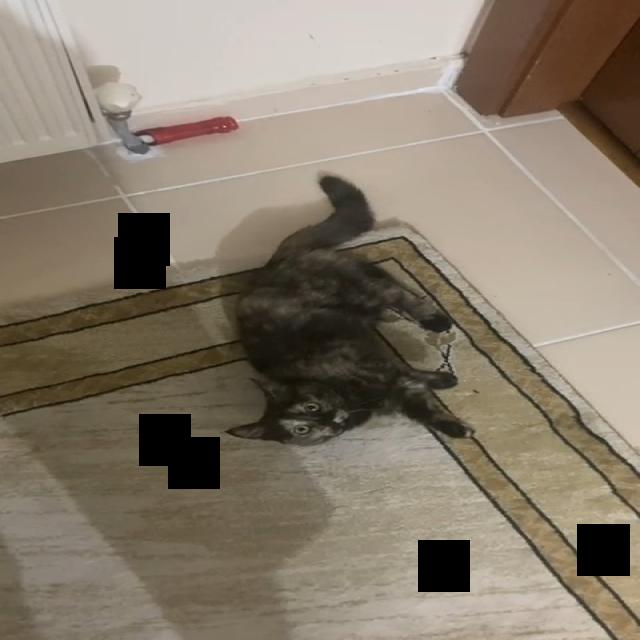authorized: (222, 172, 474, 446)
